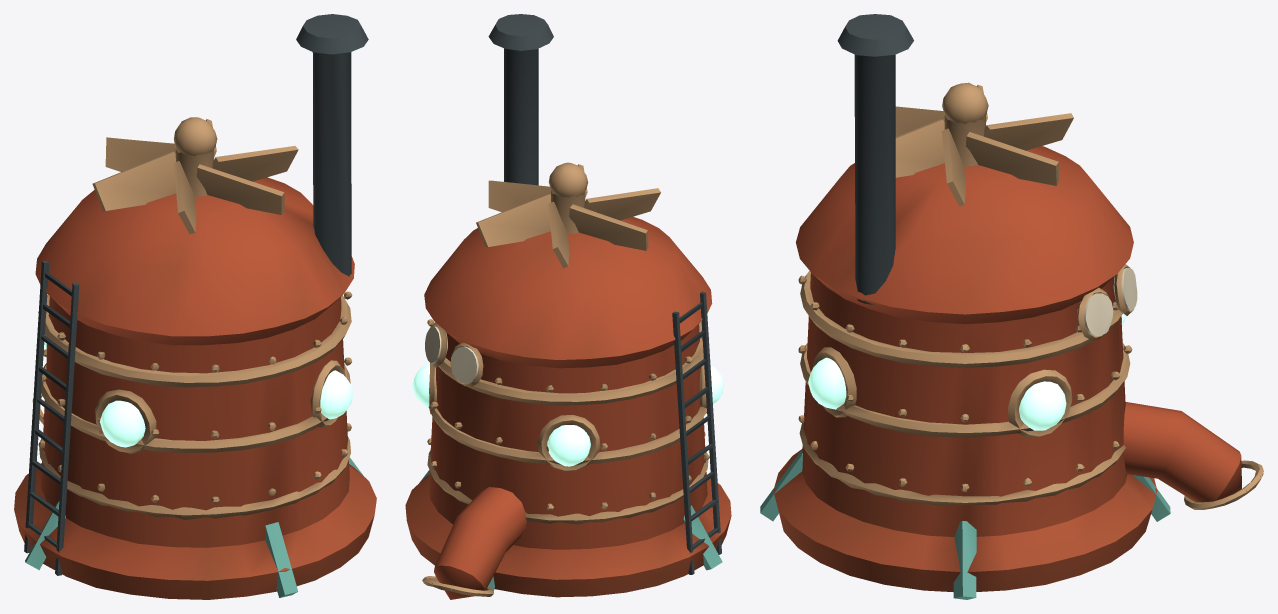
Rendered from pump_whirlpool.glb.
3 renders of one model, left to right at view 1: azimuth 30°, elevation 25°; view 2: azimuth 150°, elevation 25°; view 3: azimuth 270°, elevation 25°, orthographic. The views are drawn at different scales.
Visible parts, largest first — view 1: PumpWhirlpool, Rotor; view 2: PumpWhirlpool, Rotor; view 3: PumpWhirlpool, Rotor.
Part boxes in pixels (<box>): PumpWhirlpool: <box>14,14,376,599</box>; Rotor: <box>92,117,298,233</box>; PumpWhirlpool: <box>405,14,731,599</box>; Rotor: <box>476,162,660,268</box>; PumpWhirlpool: <box>760,14,1263,599</box>; Rotor: <box>895,82,1073,206</box>.
Size of the model in its own units: 3.25 by 4.69 by 3.93.
